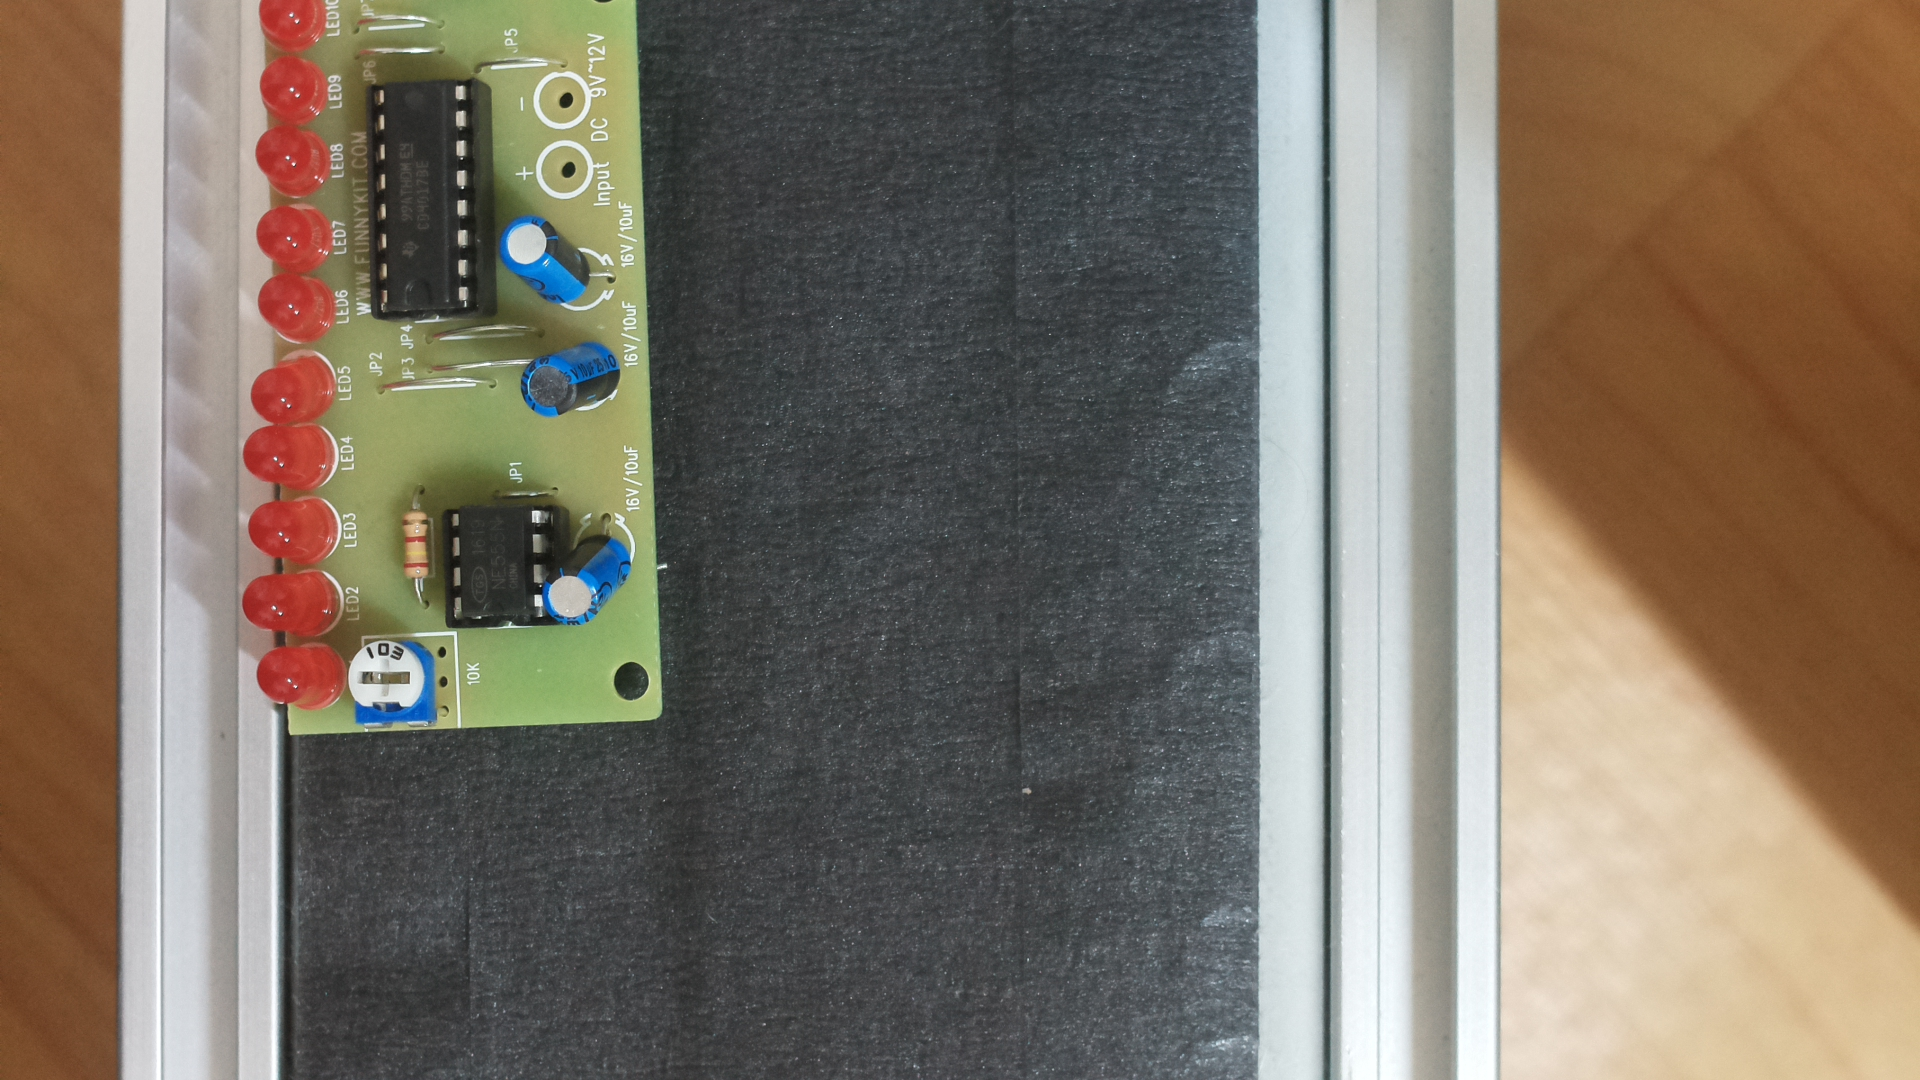B_Normal: (229, 9, 676, 752)
